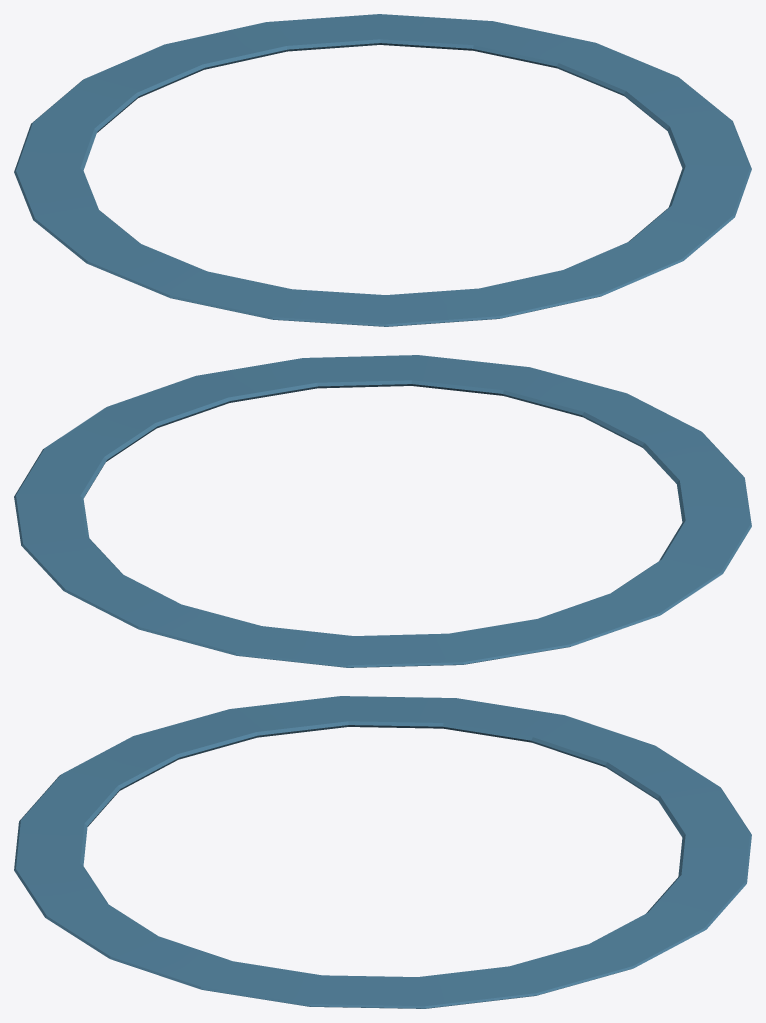
The model's file is Blue_Planet_Ring_02_LOD1.fbx.
3 renders of one model, top to bottom at view 1: azimuth 30°, elevation 25°; view 2: azimuth 150°, elevation 25°; view 3: azimuth 270°, elevation 25°, orthographic.
Parts seen in each view (by area): view 1: Blue_Planet_Ring_02_LOD1; view 2: Blue_Planet_Ring_02_LOD1; view 3: Blue_Planet_Ring_02_LOD1.
Boxes of the visible parts, <box> form: Blue_Planet_Ring_02_LOD1: <box>14,14,751,326</box>; Blue_Planet_Ring_02_LOD1: <box>14,355,751,667</box>; Blue_Planet_Ring_02_LOD1: <box>14,696,751,1008</box>.
Bounding box in the file's own units: 35623 × 263 × 35623.
